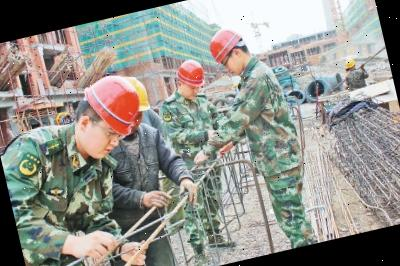helmet: (80, 69, 147, 142), (203, 23, 252, 66), (120, 68, 154, 117), (170, 55, 206, 93), (343, 57, 356, 68)
no_wear: (6, 159, 122, 266), (234, 67, 300, 178), (158, 90, 224, 168)
